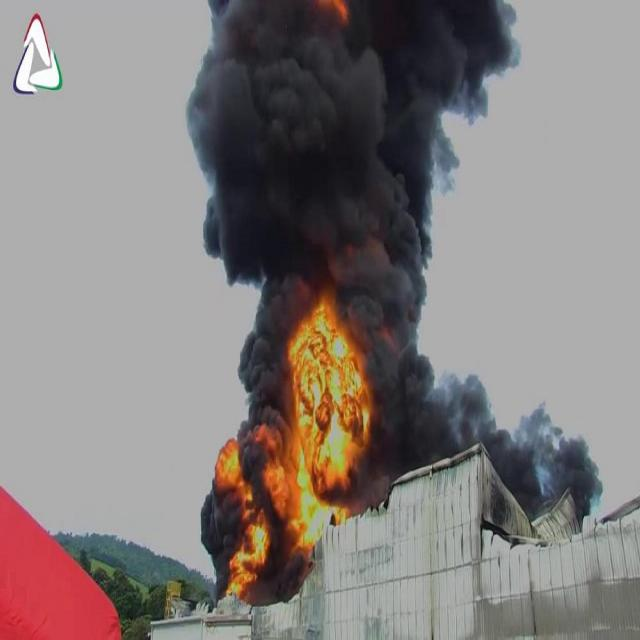fire: (258, 282, 378, 548)
